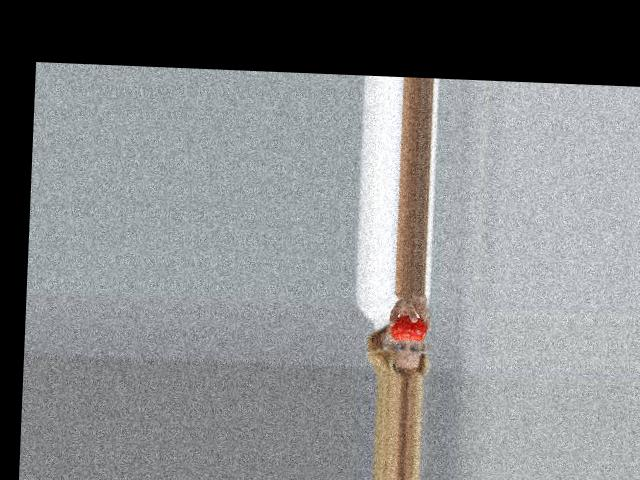tomato: (389, 314, 426, 340)
